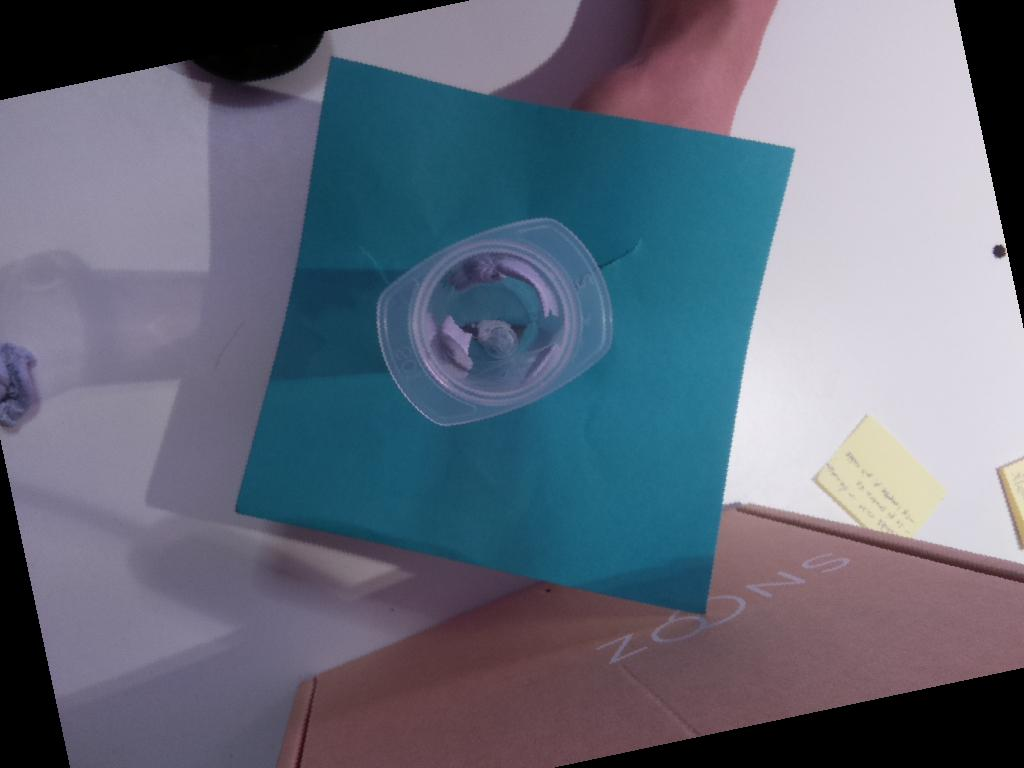dirty: (374, 213, 615, 429)
